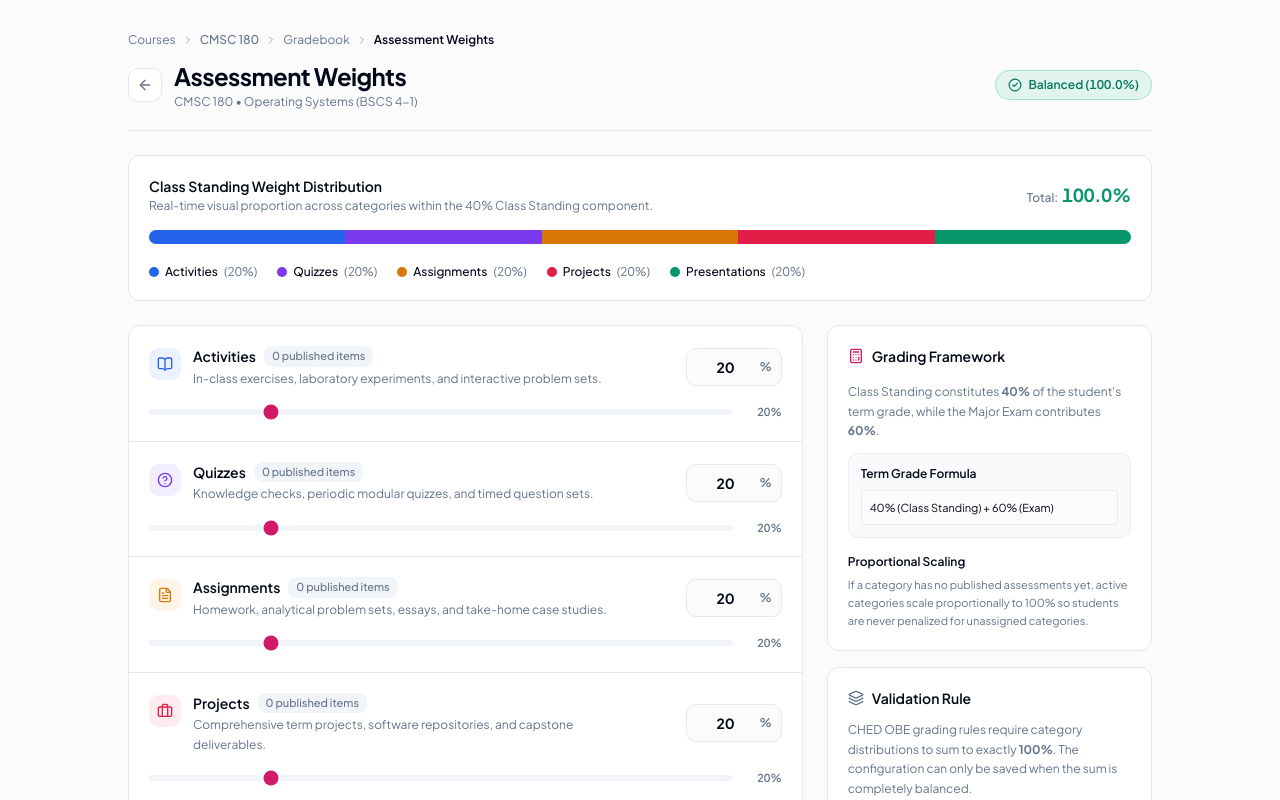
Test case: AssessmentWeightsPage › disables save button and displays error when total is not 100%
In the field with test id "category-input-activities": (734, 367) x1=686 y1=348 x2=782 y2=386, type "30"
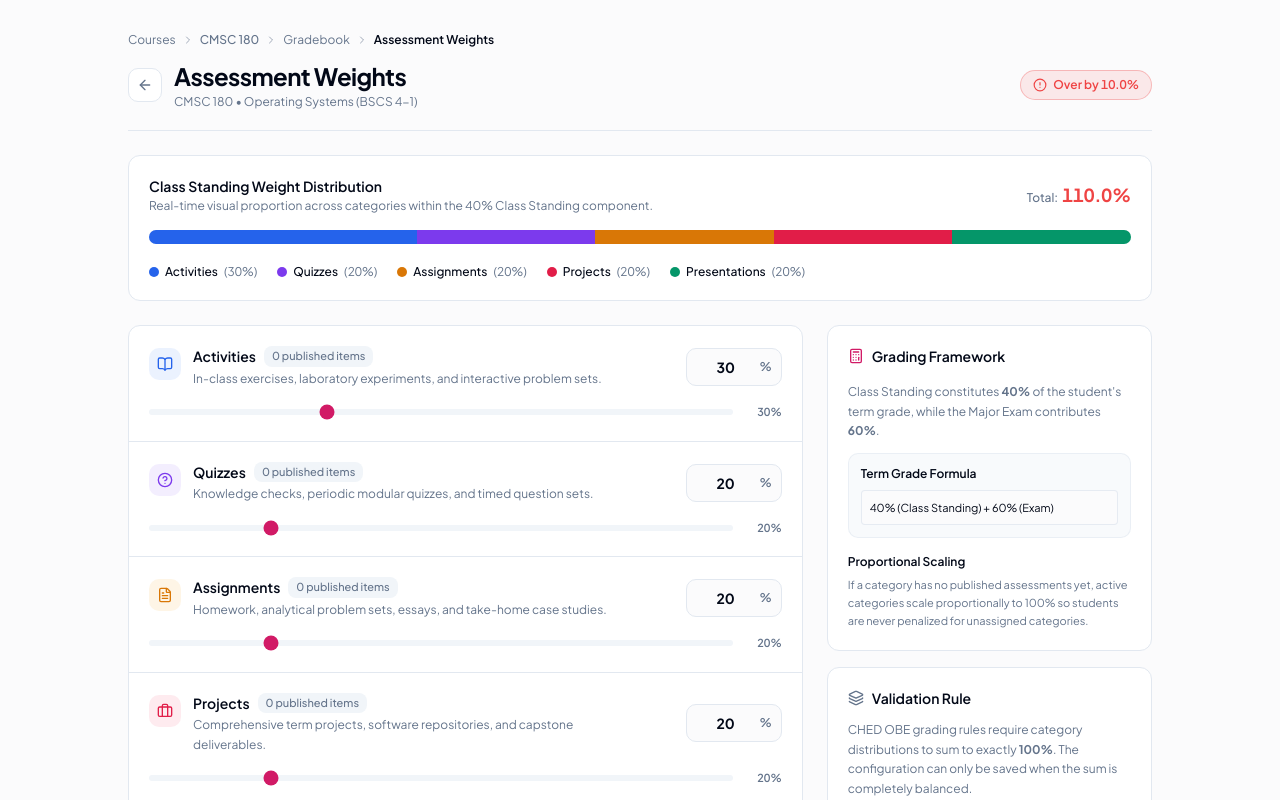
Expected: the text with test id "weights-total-value" reads "110.0%", x1=1062 y1=181 x2=1131 y2=209
Replace the text in the field with test id "category-input-activities" with "10": (734, 367) x1=686 y1=348 x2=782 y2=386
(page scrolled)
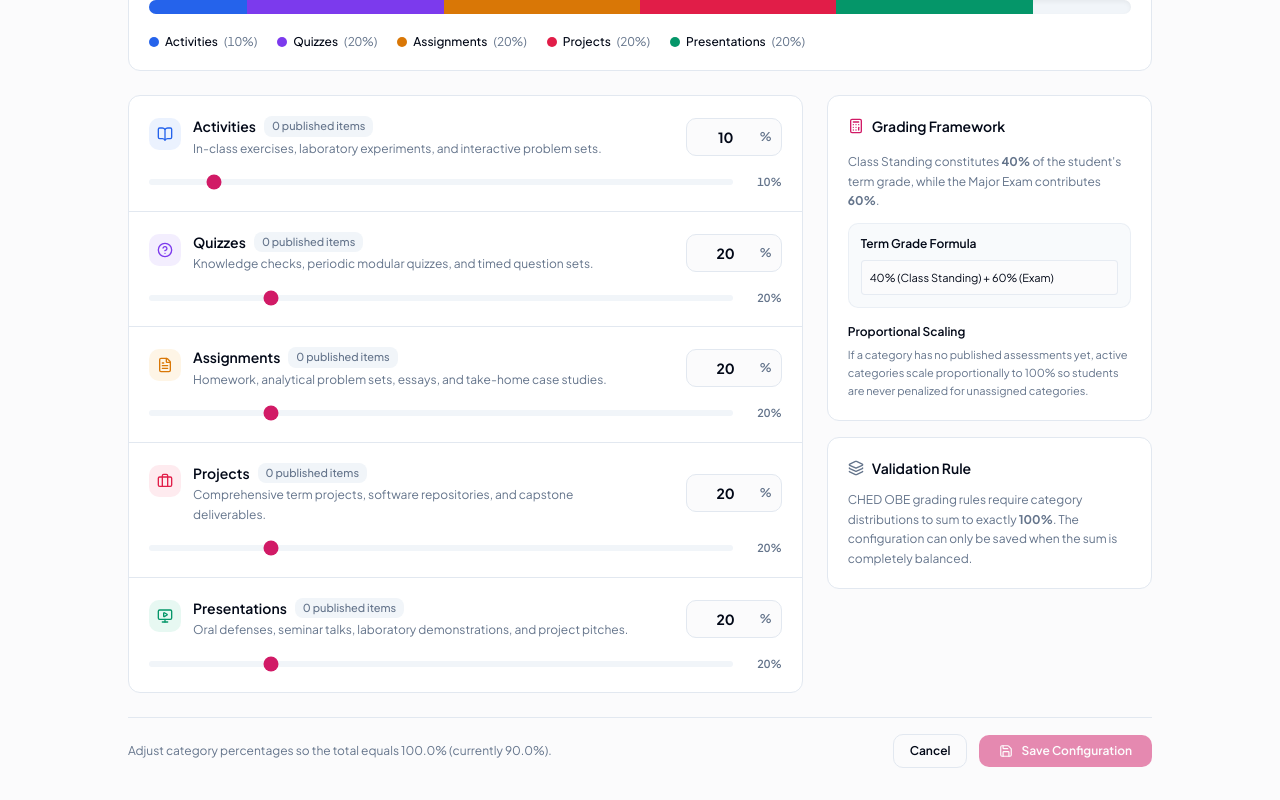
Expected: the button with test id "weights-save-btn" is disabled, x1=980 y1=735 x2=1152 y2=767
